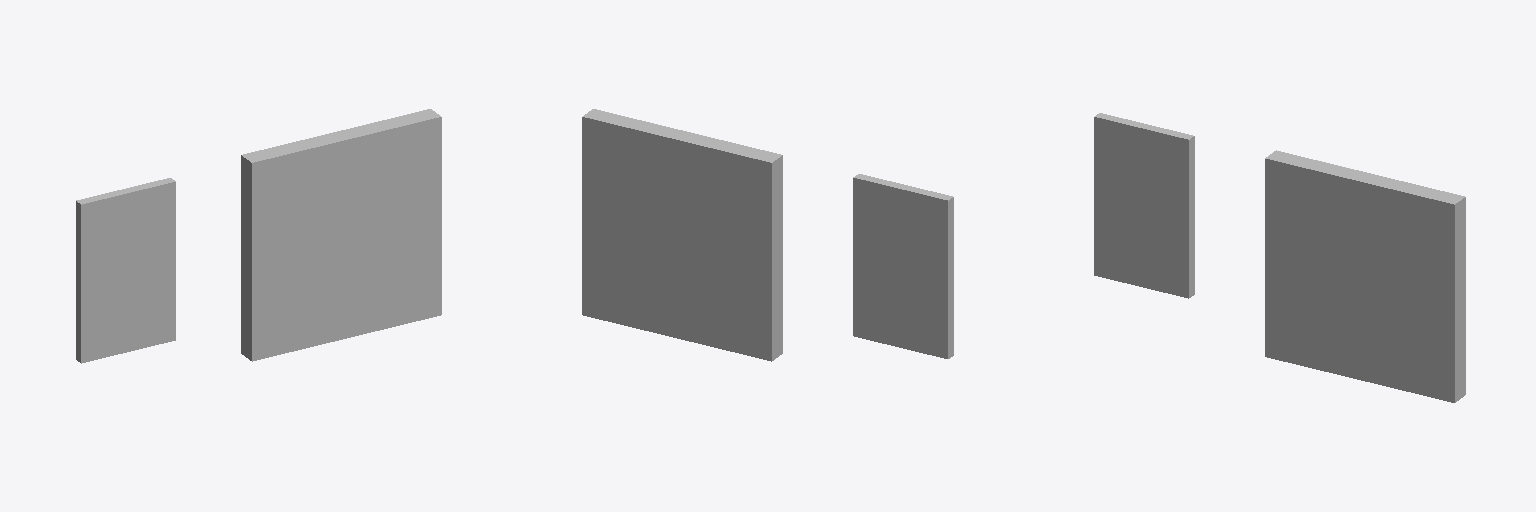
File: elytra.obj
3 views of the same model, side by side, from view 1: azimuth 30°, elevation 25°; view 2: azimuth 150°, elevation 25°; view 3: azimuth 330°, elevation 25° (orthographic).
Visible parts, largest first — view 1: right_wing, left_wing, cape; view 2: right_wing, left_wing, cape; view 3: left_wing, right_wing, cape.
Boxes of the visible parts, box(x1,y1,x2,y2) form: right_wing: box(241, 132, 346, 361); left_wing: box(337, 109, 441, 337); cape: box(76, 178, 175, 363); right_wing: box(677, 132, 782, 361); left_wing: box(582, 109, 686, 337); cape: box(853, 174, 953, 358); left_wing: box(1360, 174, 1465, 402); right_wing: box(1265, 150, 1370, 379); cape: box(1094, 113, 1194, 298).
Size of the model in its own units: 2.38 by 1.25 by 0.125.